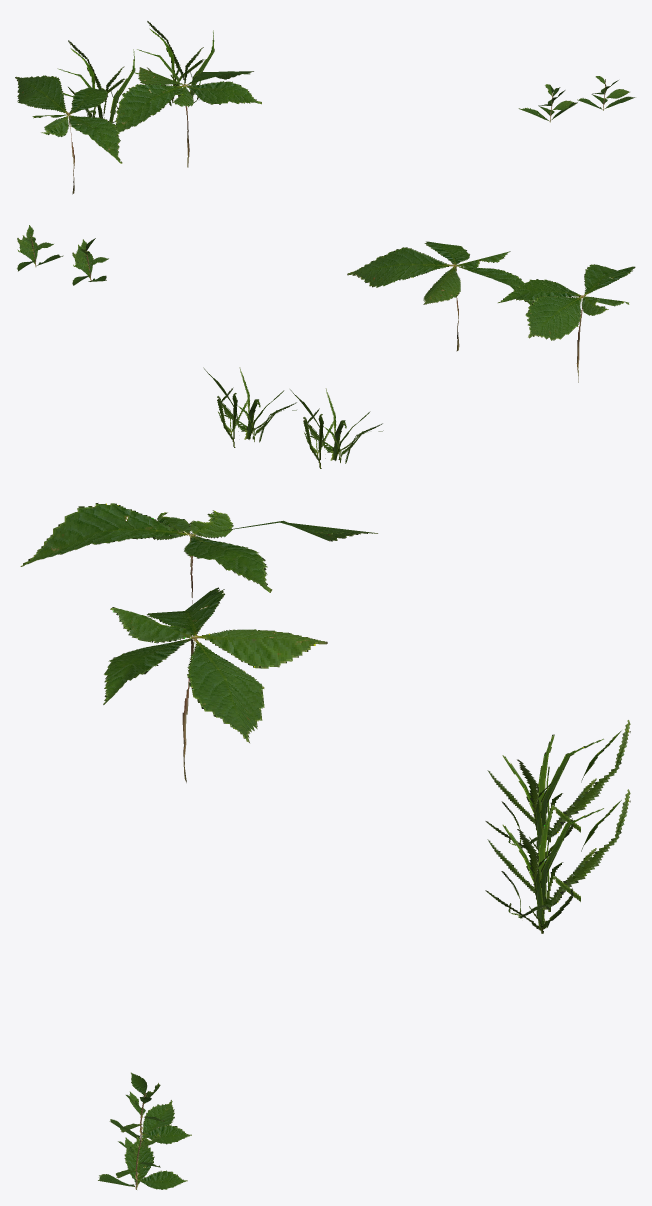
The model's file is grasstuft.glb.
3 views of the same model, one above another, from view 1: azimuth 30°, elevation 25°; view 2: azimuth 150°, elevation 25°; view 3: azimuth 270°, elevation 25° (orthographic). The views are drawn at different scales.
Parts seen in each view (by area): view 1: Object_3, Object_5; view 2: Object_3, Object_5; view 3: Object_3, Object_5.
Part boxes in pixels (x1,y1,x2,y2): Object_3: [15, 67, 635, 194]; Object_5: [57, 21, 214, 123]; Object_3: [17, 225, 635, 382]; Object_5: [203, 367, 383, 468]; Object_3: [20, 503, 377, 1189]; Object_5: [485, 720, 630, 933].
Bounding box in the file's own units: 3.8 × 0.8316 × 1.98.
Materials: 2 (2 with a texture image).
